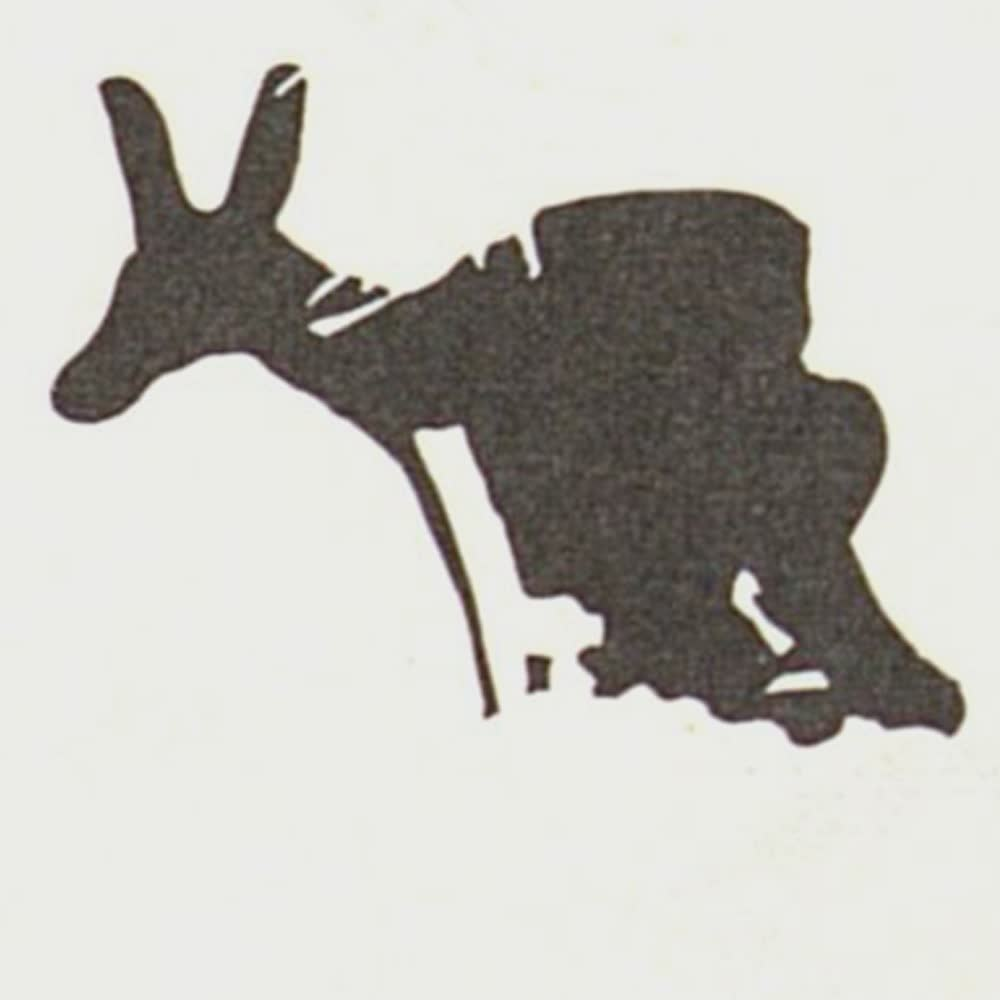animal: (44, 61, 984, 763)
